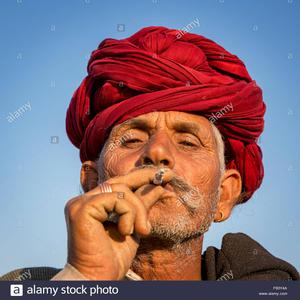cigarette: (151, 167, 165, 187)
